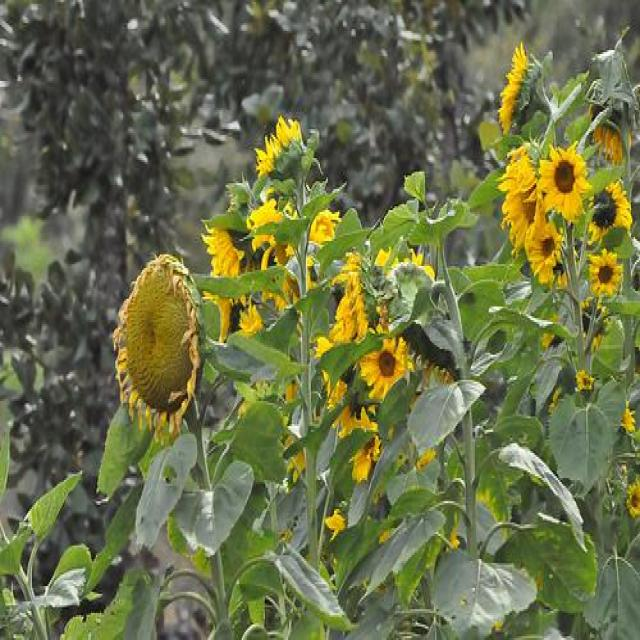sunflower: (114, 255, 201, 440), (249, 111, 314, 188), (540, 142, 586, 218), (362, 336, 412, 394), (586, 181, 630, 243), (588, 250, 622, 298)
